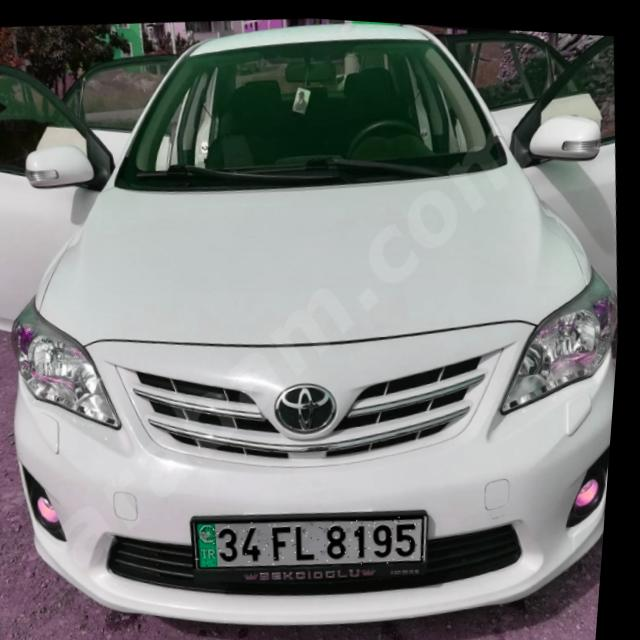license_plate: (197, 498, 435, 576)
